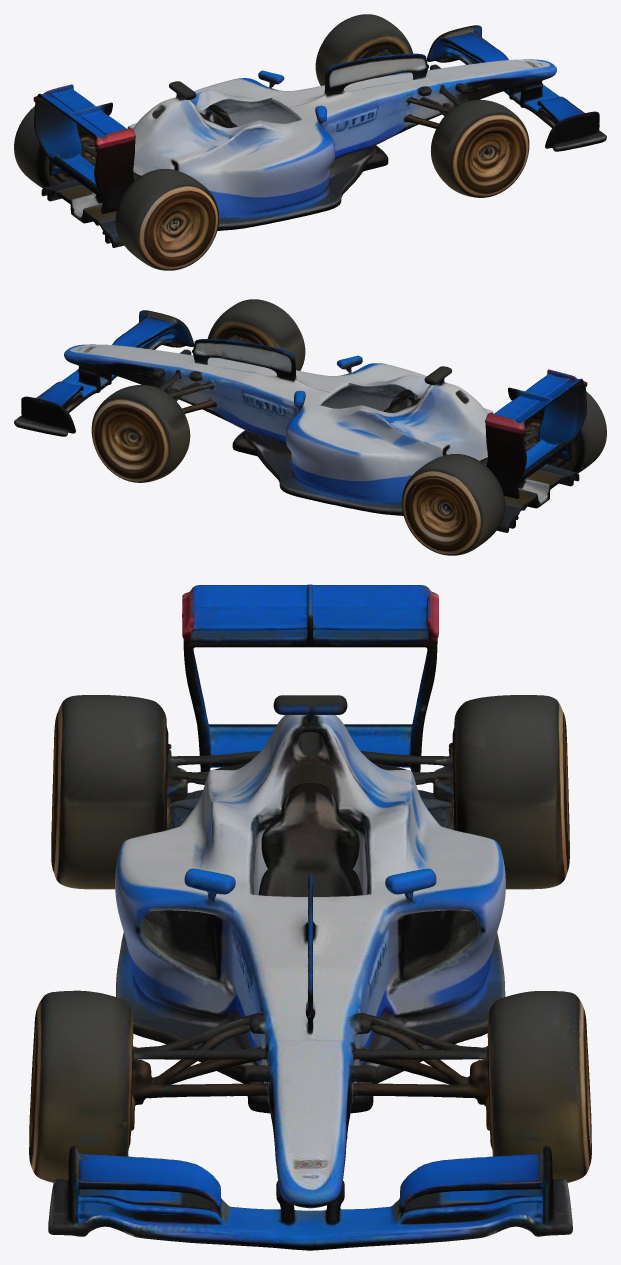
Rendered from car_apex.glb.
3 views of the same model, one above another, from view 1: azimuth 30°, elevation 25°; view 2: azimuth 150°, elevation 25°; view 3: azimuth 270°, elevation 25° (orthographic). The views are drawn at different scales.
Visible parts, largest first — view 1: tripo_node_8c9cc2e0-f85e-436c-a7d0-68bcc51d03e4; view 2: tripo_node_8c9cc2e0-f85e-436c-a7d0-68bcc51d03e4; view 3: tripo_node_8c9cc2e0-f85e-436c-a7d0-68bcc51d03e4.
Part boxes in pixels (left/top/right/bottom): tripo_node_8c9cc2e0-f85e-436c-a7d0-68bcc51d03e4: left=14, top=14, right=606, bottom=270; tripo_node_8c9cc2e0-f85e-436c-a7d0-68bcc51d03e4: left=14, top=299, right=606, bottom=555; tripo_node_8c9cc2e0-f85e-436c-a7d0-68bcc51d03e4: left=29, top=584, right=591, bottom=1250.
Bounding box in the file's own units: 1 × 0.2432 × 0.4973.
Materials: 1 (1 with a texture image).
